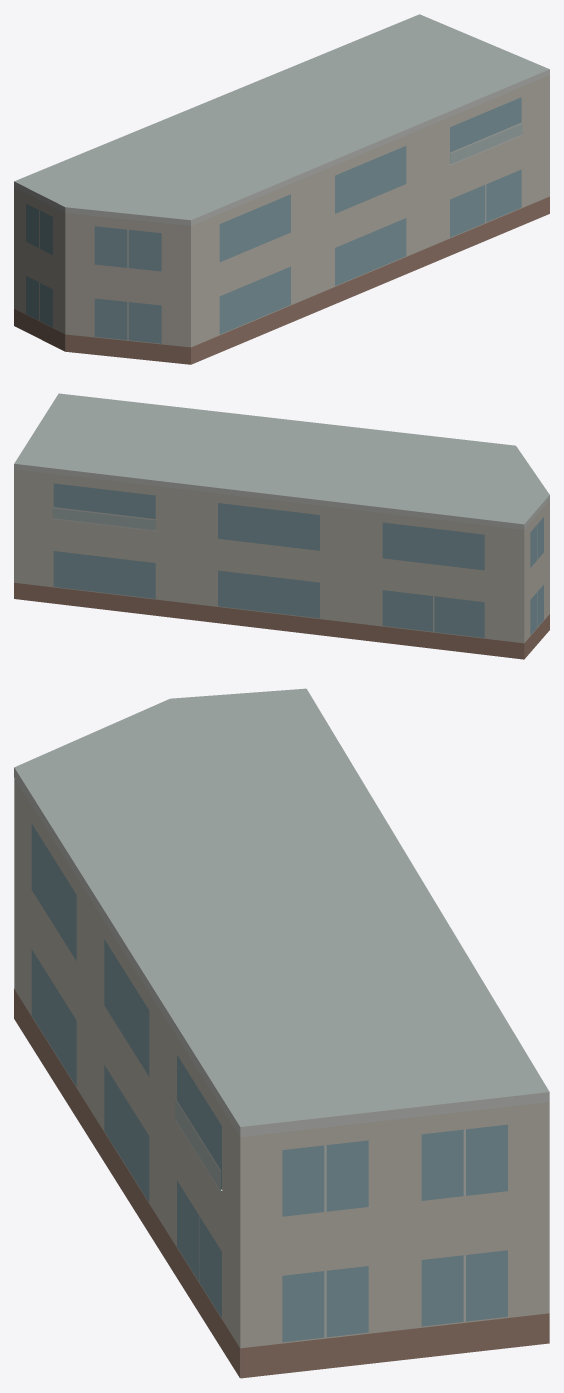
File: survey-upis-32716191.glb
The picture shows the model from 3 angles, top to bottom: view 1: azimuth 30°, elevation 25°; view 2: azimuth 150°, elevation 25°; view 3: azimuth 270°, elevation 25°; orthographic projection. The views are drawn at different scales.
Visible parts, largest first — view 1: survey-upis-32716191.tmp; view 2: survey-upis-32716191.tmp; view 3: survey-upis-32716191.tmp.
Boxes of the visible parts, left/top/right/bottom form: survey-upis-32716191.tmp: left=14, top=14, right=549, bottom=364; survey-upis-32716191.tmp: left=14, top=393, right=549, bottom=659; survey-upis-32716191.tmp: left=14, top=688, right=549, bottom=1378.
Size of the model in its own units: 22.84 by 6.1 by 11.79.
